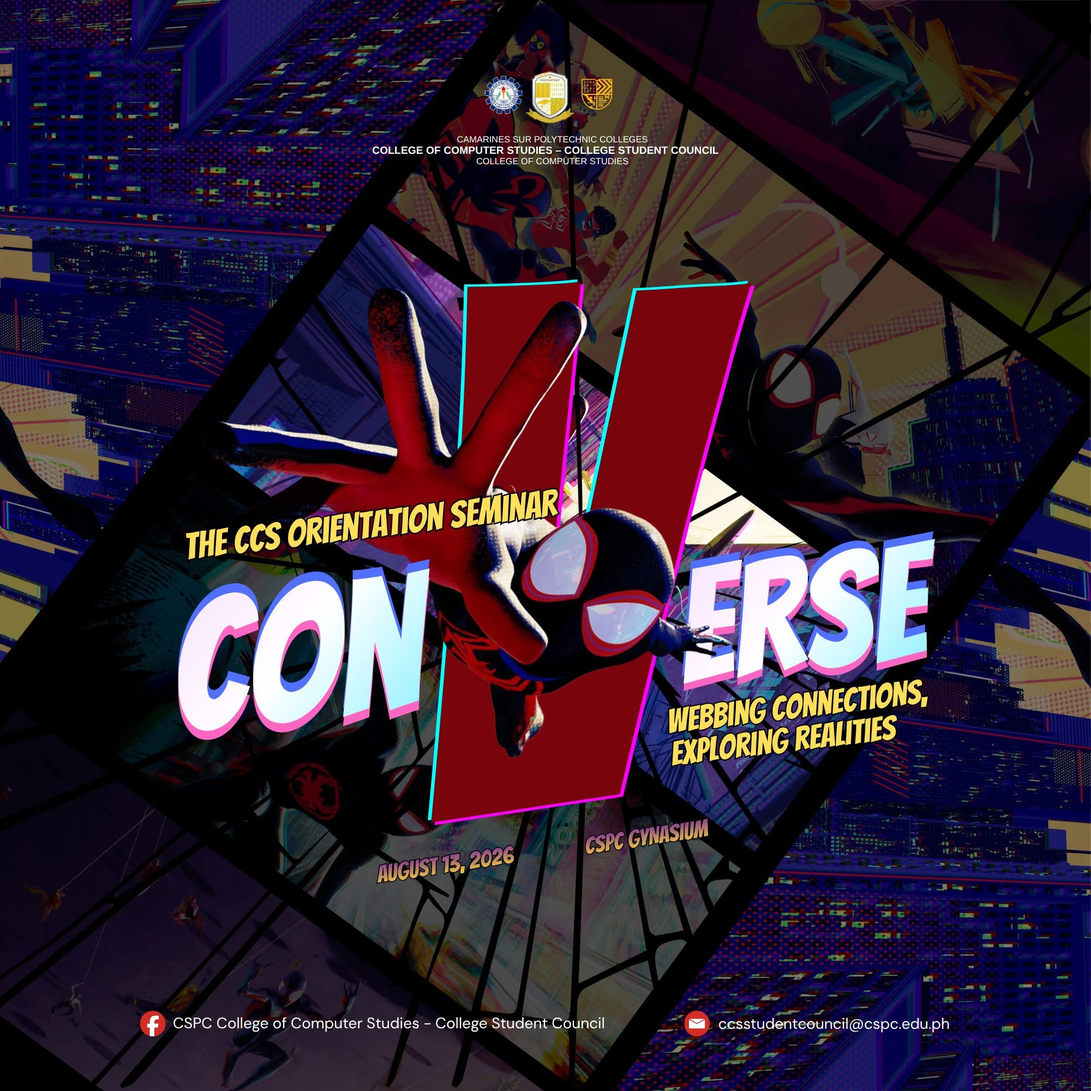embellishment: (427, 280, 755, 824), (530, 72, 571, 124), (484, 74, 524, 115), (580, 76, 614, 111), (139, 1010, 167, 1038), (683, 1010, 711, 1038)
logo: (527, 69, 574, 124), (484, 72, 524, 116), (577, 77, 614, 111), (683, 1010, 711, 1038), (140, 1010, 168, 1038)
text: (178, 530, 934, 741), (185, 488, 559, 560), (669, 678, 928, 767), (173, 1017, 604, 1032), (375, 846, 516, 884), (585, 818, 709, 854), (371, 145, 718, 155), (719, 1017, 948, 1032), (458, 134, 648, 143), (476, 157, 628, 165)
underlay: (175, 475, 572, 568), (371, 843, 520, 897), (580, 811, 716, 858)
